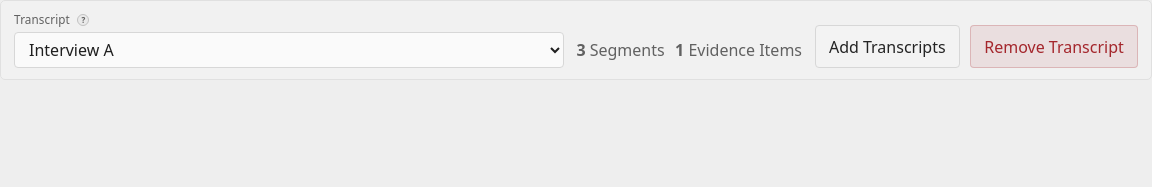
Test: Transcript Coding workspace redesign › navigates transcripts from the toolbar and blocks replacing a pending import preview
This screenshot has width=1152, height=187.
Select "Interview B" in the dropdown labelled "Transcript" at [289, 50], box [14, 32, 564, 68]
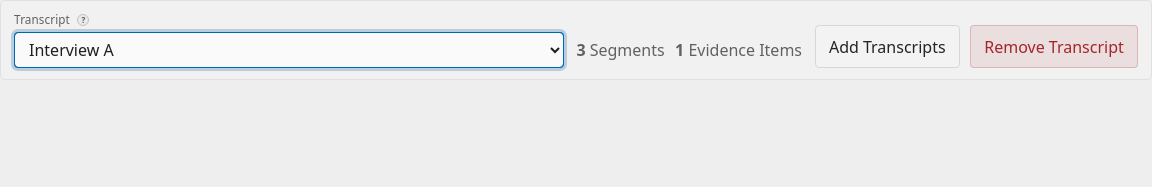
Click the heading "Add Transcripts" at [887, 47], box [815, 25, 960, 68]
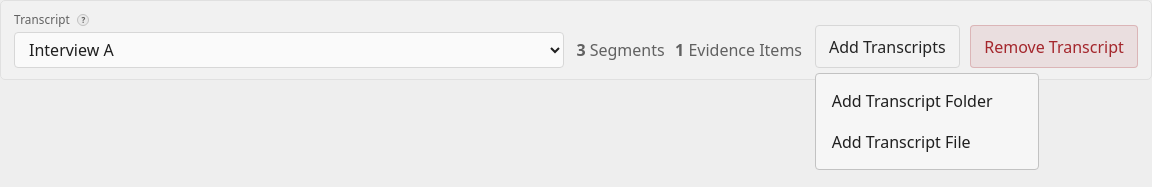
Expected: the button "Remove Transcript" is enabled, [970, 25, 1138, 68]
Expected: the button "Add Transcript Folder" is disabled, [821, 80, 1032, 121]
Expected: the button "Add Transcript File" is disabled, [821, 121, 1032, 163]
